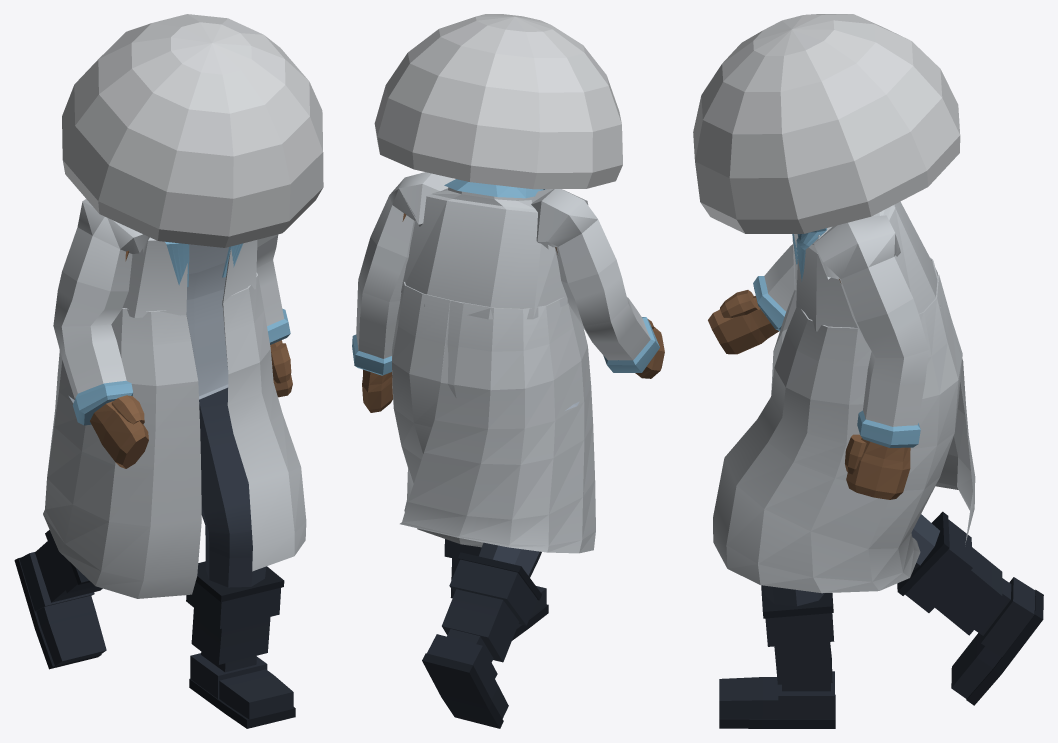
File: city-commuter-52a53f__walk1.glb
3 views of the same model, side by side, from view 1: azimuth 30°, elevation 25°; view 2: azimuth 150°, elevation 25°; view 3: azimuth 270°, elevation 25° (orthographic). The views are drawn at different scales.
Visible parts, largest first — view 1: city-commuter-52a53f__walk1; view 2: city-commuter-52a53f__walk1; view 3: city-commuter-52a53f__walk1.
Part boxes in pixels (<box>): city-commuter-52a53f__walk1: <box>14,14,323,728</box>; city-commuter-52a53f__walk1: <box>352,14,664,728</box>; city-commuter-52a53f__walk1: <box>693,14,1043,728</box>.
Size of the model in its own units: 0.7655 by 1.85 by 0.8469.
